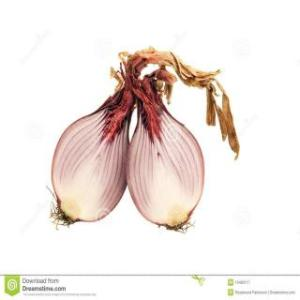onion: (129, 76, 205, 232), (54, 84, 128, 227)
